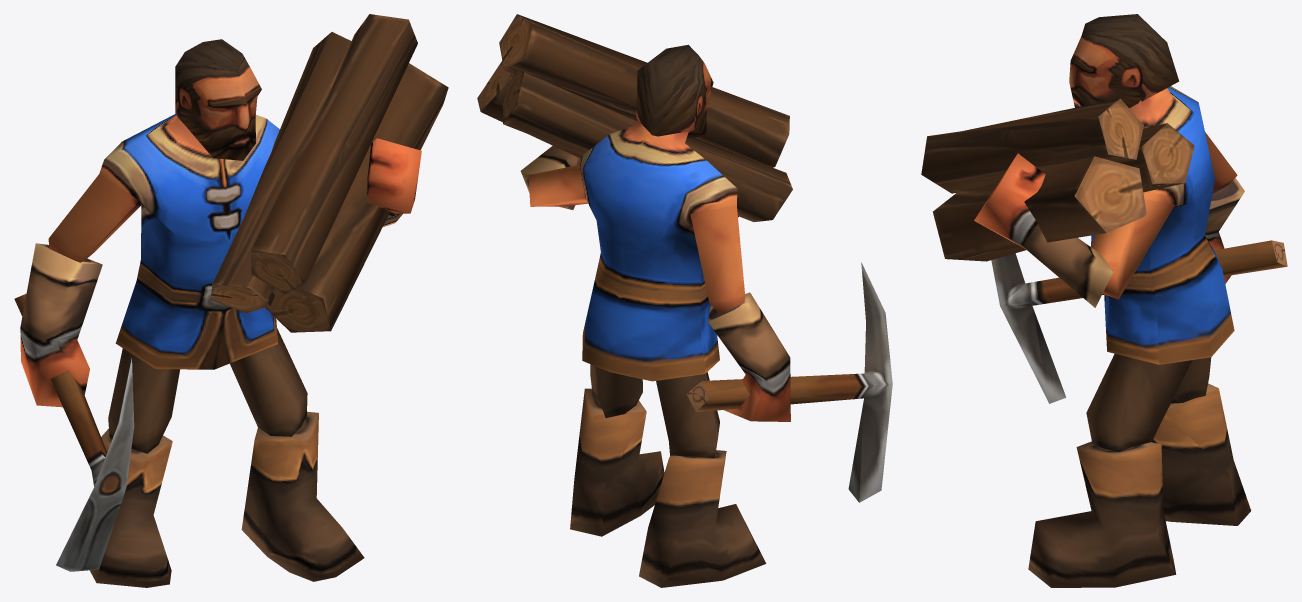
Rendered from x_borrar_worker2.FBX.
3 renders of one model, left to right at view 1: azimuth 30°, elevation 25°; view 2: azimuth 150°, elevation 25°; view 3: azimuth 270°, elevation 25°, orthographic. The views are drawn at different scales.
Visible parts, largest first — view 1: WK_worker001; view 2: WK_worker001; view 3: WK_worker001.
Boxes of the visible parts, x1,y1,x2,y2 form: WK_worker001: [14, 14, 448, 587]; WK_worker001: [477, 14, 892, 587]; WK_worker001: [921, 14, 1287, 587].
Bounding box in the file's own units: 47.62 × 56.81 × 36.66.
